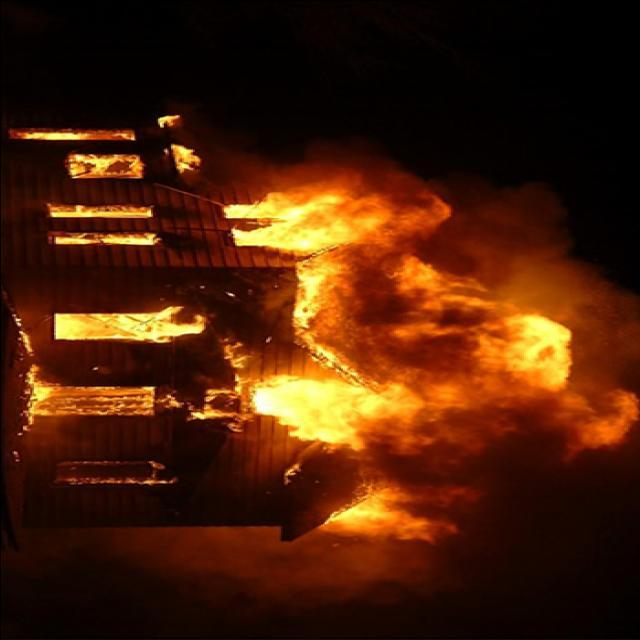Fire: (226, 179, 574, 537), (15, 306, 223, 485), (9, 114, 201, 253)
